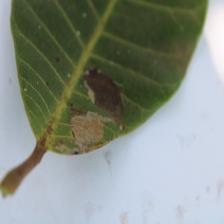leaf miner: (78, 60, 126, 126), (62, 106, 124, 157)
